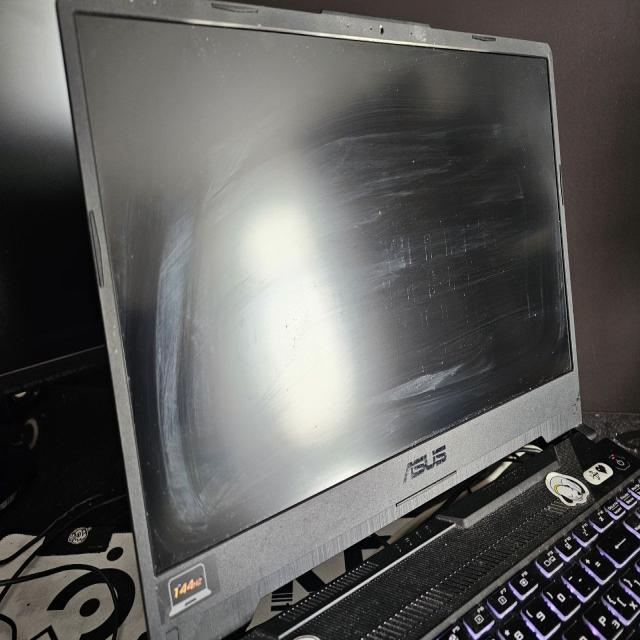scratch: (367, 178, 551, 362)
